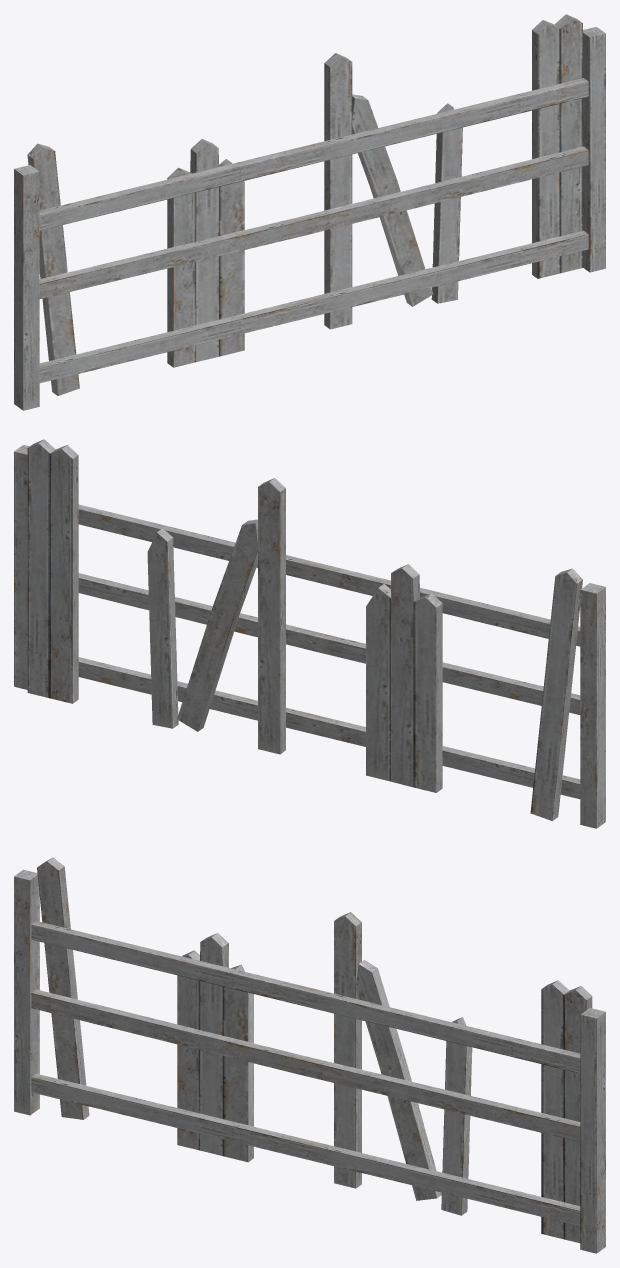
File: Prop_Railings2.glb
3 renders of one model, top to bottom at view 1: azimuth 30°, elevation 25°; view 2: azimuth 150°, elevation 25°; view 3: azimuth 330°, elevation 25°, orthographic.
Visible parts, largest first — view 1: xiutz_railings2; view 2: xiutz_railings2; view 3: xiutz_railings2.
Part boxes in pixels (bbox=[...]): xiutz_railings2: bbox=[14, 14, 605, 410]; xiutz_railings2: bbox=[14, 439, 605, 828]; xiutz_railings2: bbox=[14, 857, 605, 1253].
Bounding box in the file's own units: 5.62 × 2.5 × 0.2131.
1 material, 1 textured.
